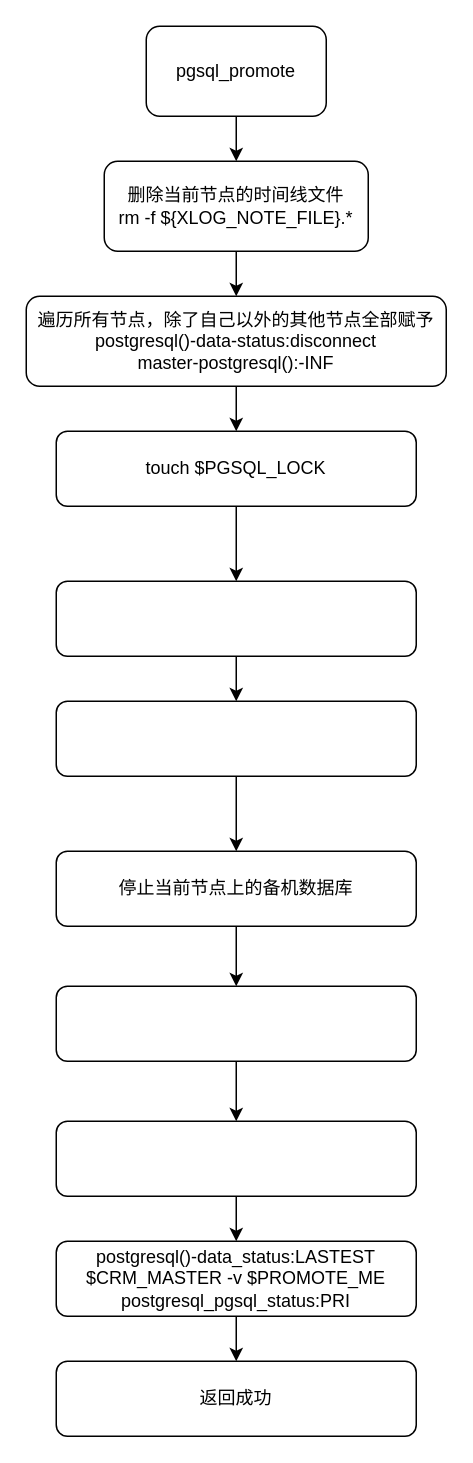
This 473x1463 diagram has some shape labels left out. Here are the shapes that lost their labels. From the top down, the centre of each, then its label:
At [235,618]: "show_master_baseline给自己的节点副本写上时间线".
At [235,738]: "提升当前的数据库".
At [235,1023]: "对当前数据库进行提升操作".
At [235,1158]: "pgsql_real_monitor 查询数据库的状态".
